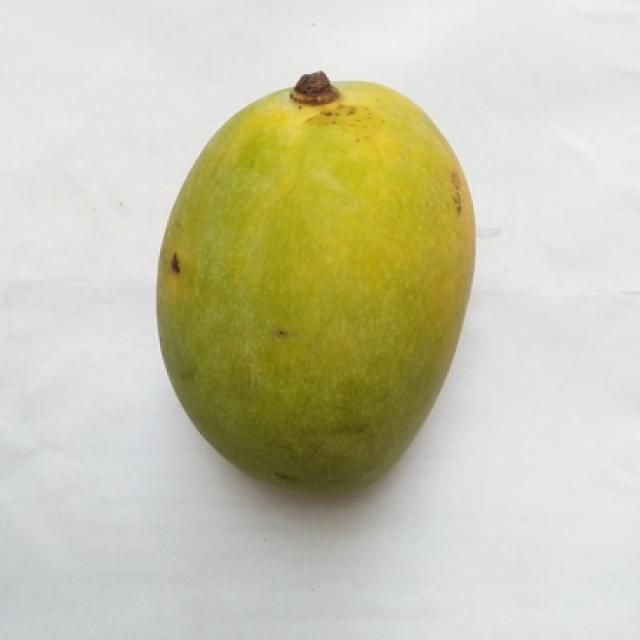Mango: (158, 81, 473, 493)
